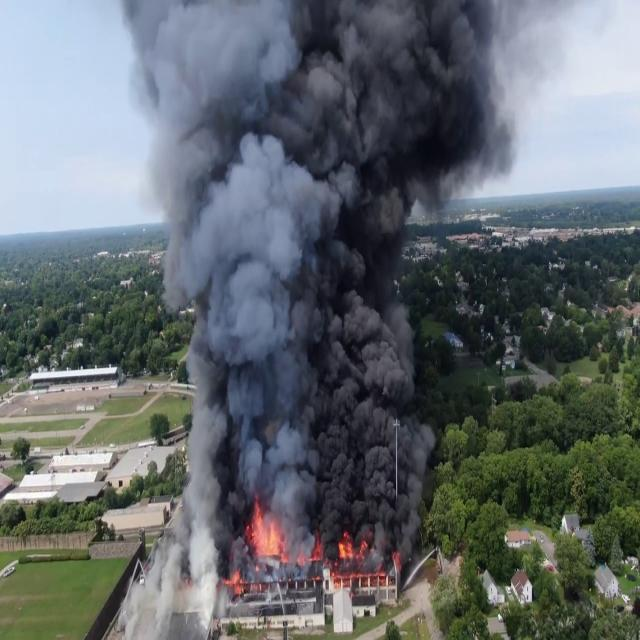Smoke: (108, 1, 510, 555)
